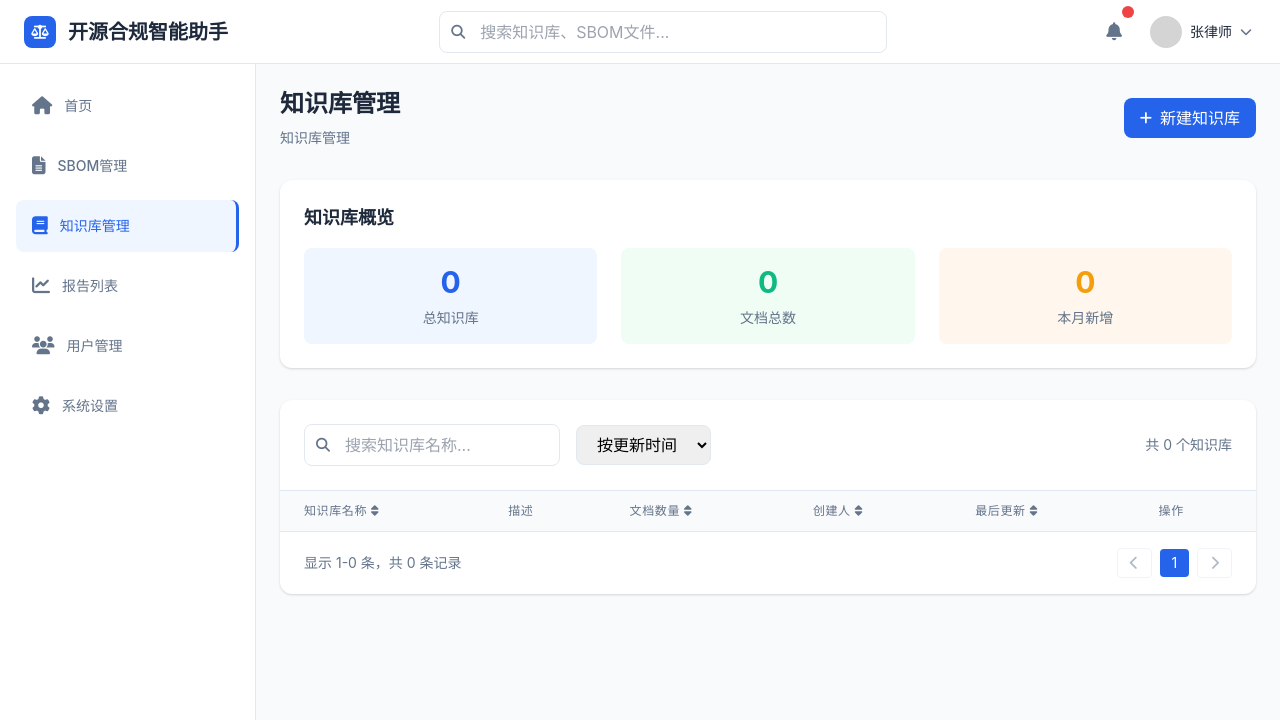
it: KnowledgeBaseListPage › posts a new knowledge base and adds it to the list
Click the button "新建知识库": (1190, 118) [1124,98,1256,138]
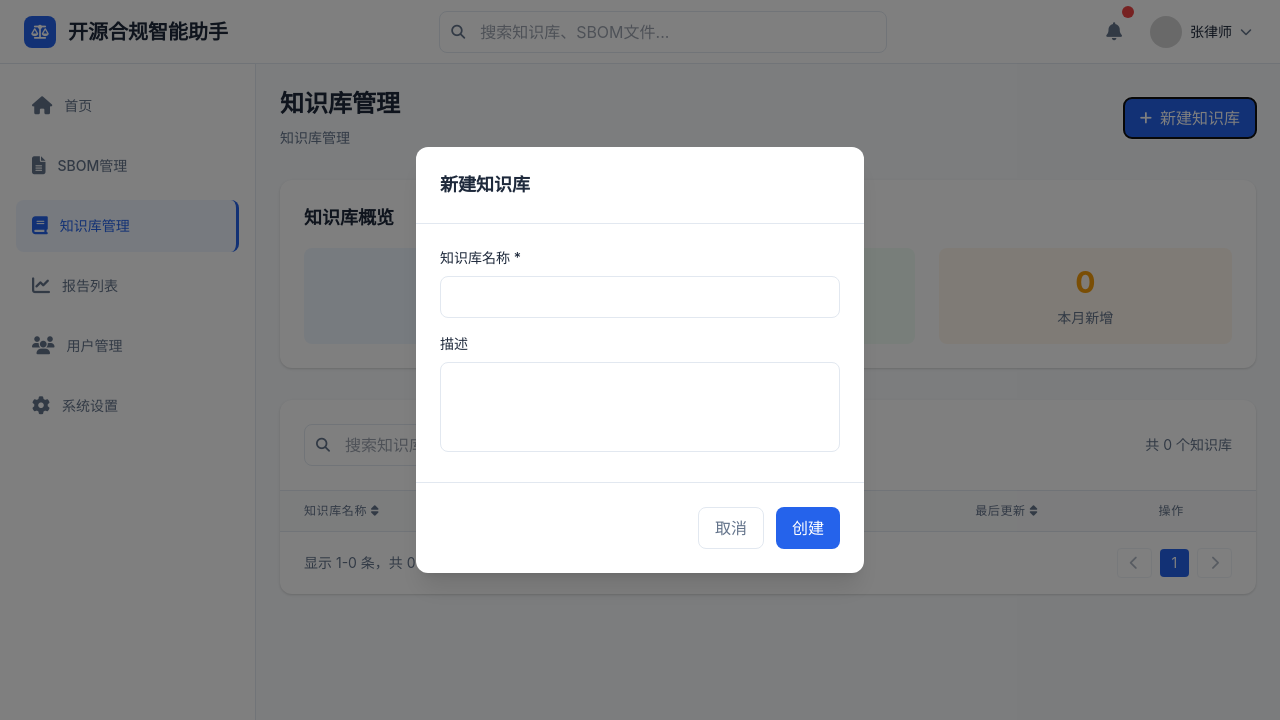
In the field labelled "知识库名称 *": (640, 297) [440,276,840,318], type "新知识库"
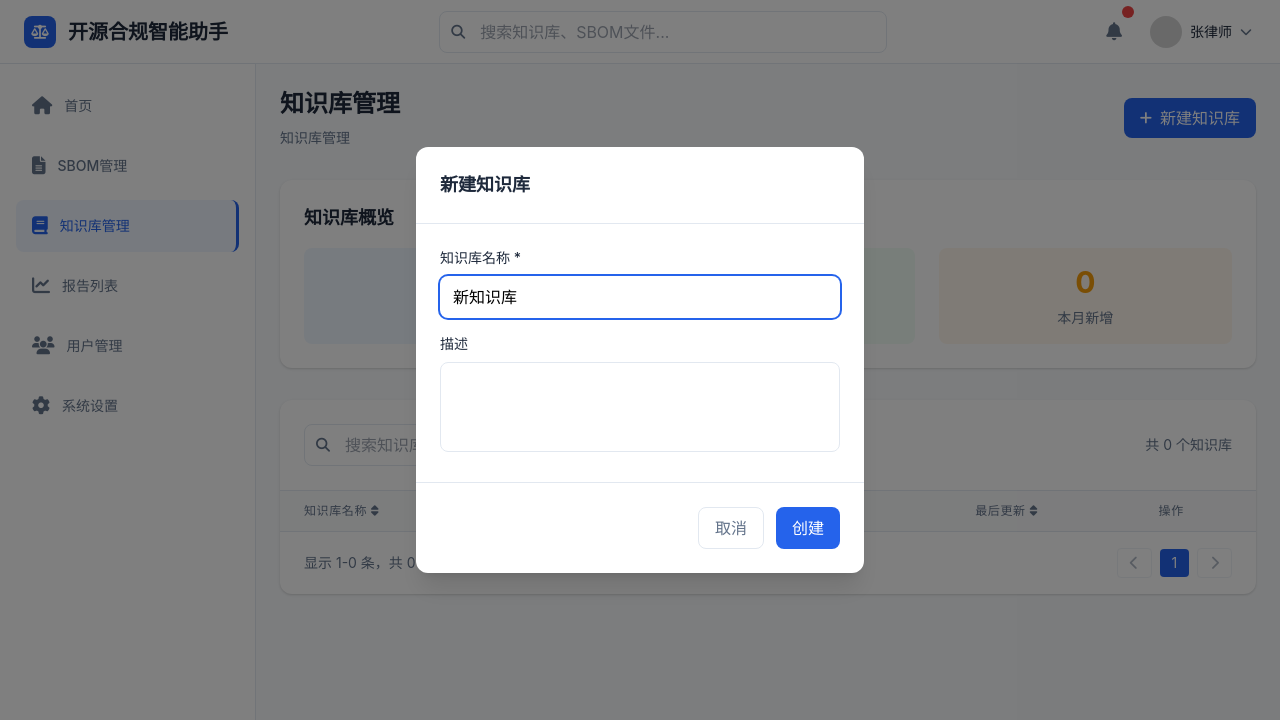
In the text box labelled "描述": (640, 407) [440,362,840,452], type "描述内容"
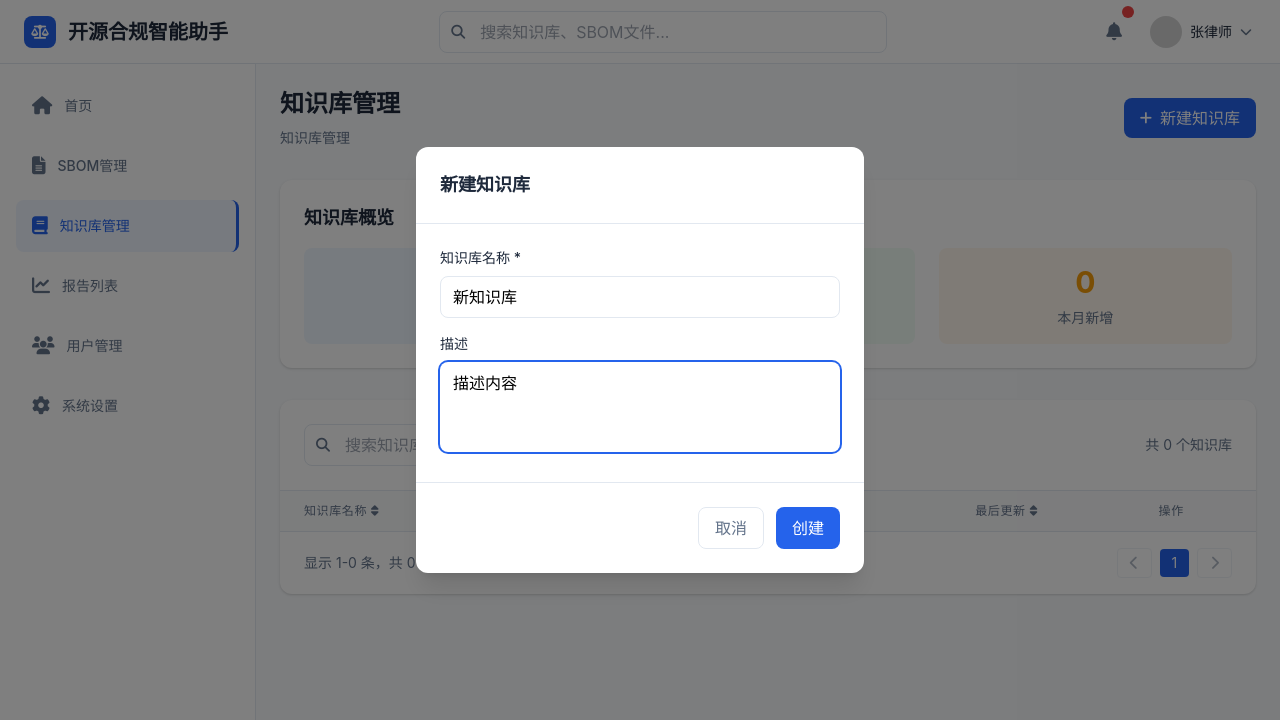
Click the button "创建": (808, 528) [776,507,840,549]
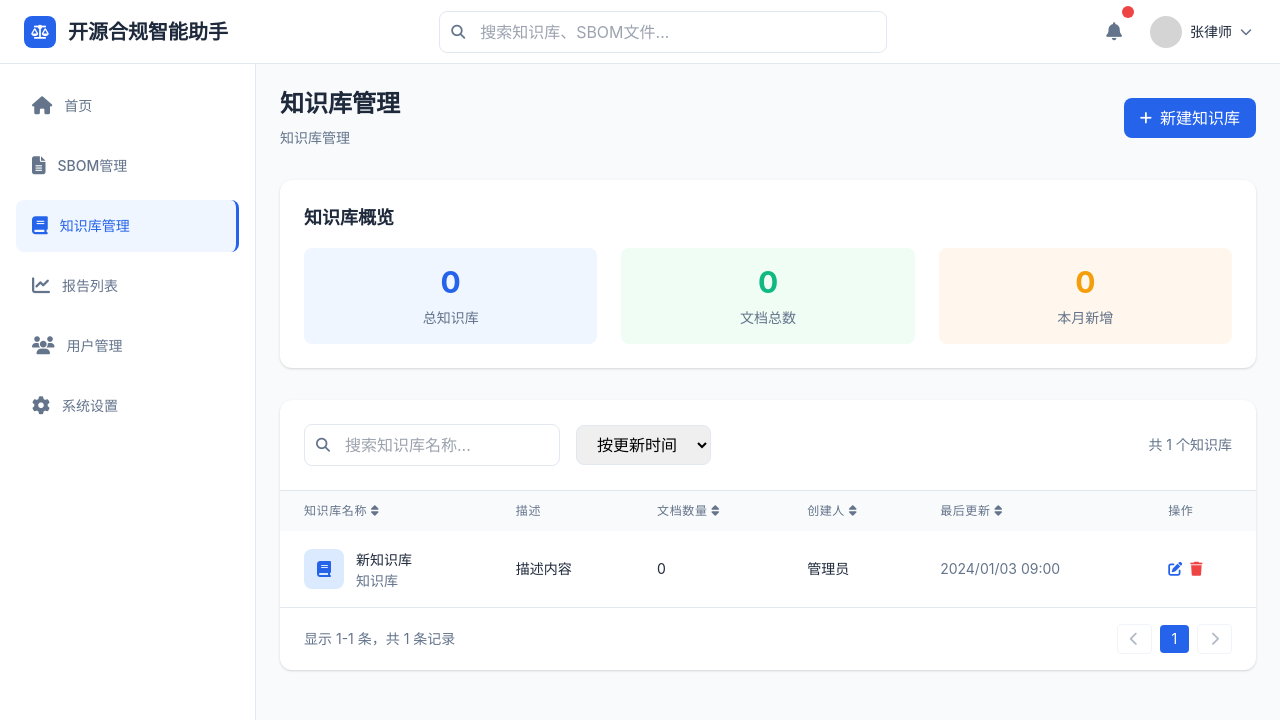
Expected: the link "新知识库" is shown, [356,551,412,568]
